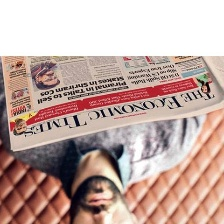news_paper: (0, 52, 224, 155)
